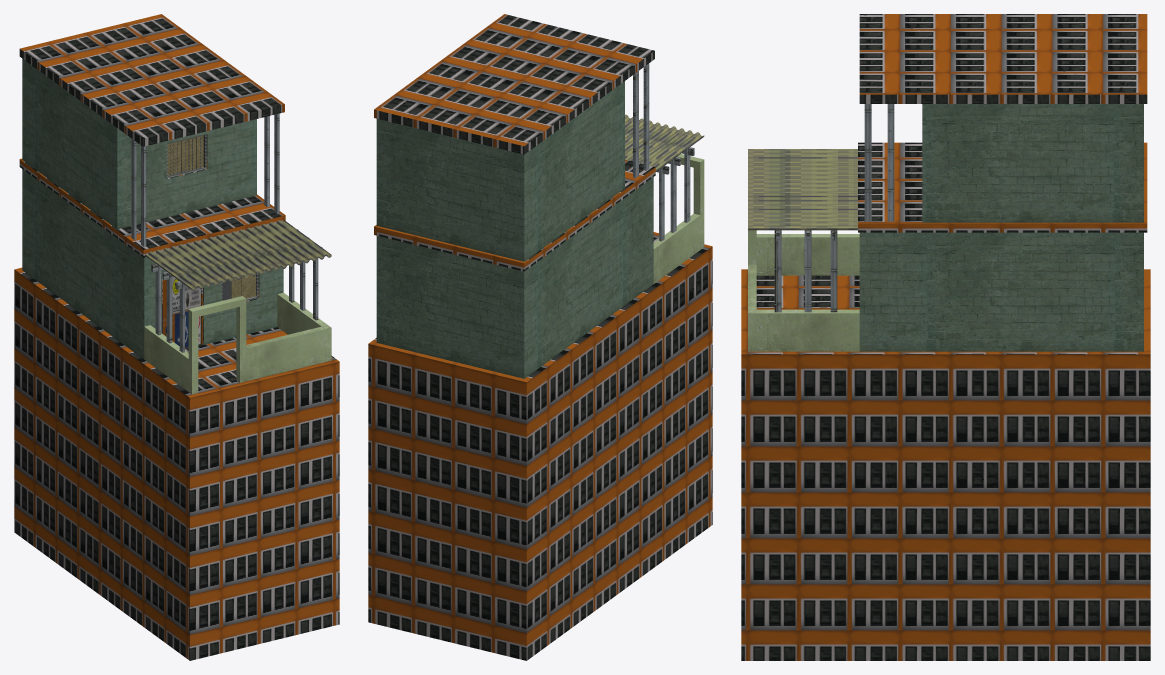
Rendered from barraco_rds_23.obj.
The picture shows the model from 3 angles, left to right: view 1: azimuth 30°, elevation 25°; view 2: azimuth 150°, elevation 25°; view 3: azimuth 270°, elevation 25°; orthographic projection. The views are drawn at different scales.
Parts seen in each view (by area): view 1: barraco_rds_06b; view 2: barraco_rds_06b; view 3: barraco_rds_06b.
Part boxes in pixels (box(x1,y1,x2,y2)): barraco_rds_06b: box(14, 14, 339, 660); barraco_rds_06b: box(368, 14, 712, 660); barraco_rds_06b: box(741, 14, 1150, 660).
Bounding box in the file's own units: 4.69 × 14.49 × 9.53.
